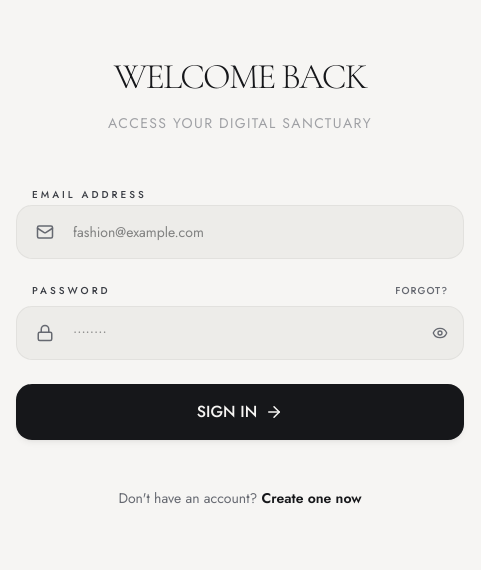
Test: login failures are explained › too many attempts says to wait
The image size is (481, 570).
Type "nobody@example.com" into the field with placeholder "fashion@example.com". click: (240, 232)
box: [16, 204, 464, 258]
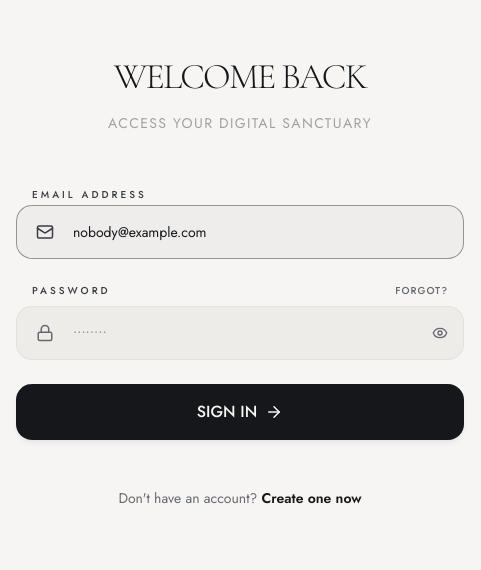
Type "wrong-password" into the password field with placeholder "••••••••". click: (240, 332)
box: [16, 306, 464, 360]
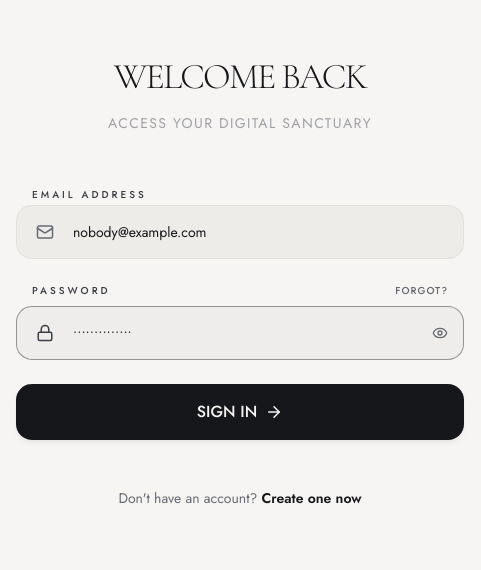
Click the button "SIGN IN". click: (240, 412)
box: [16, 384, 464, 440]
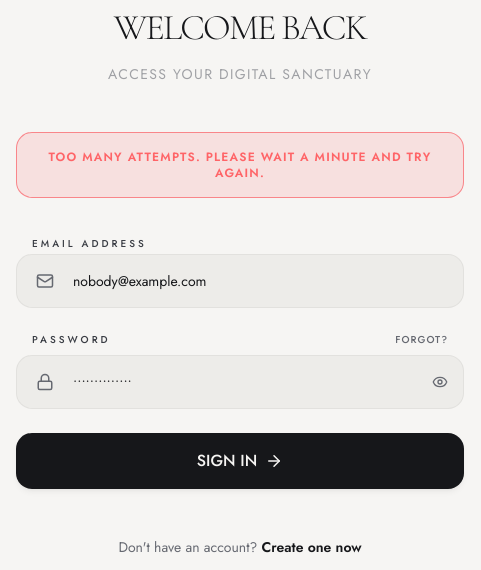
Check: the message shows "Too many attempts", box [48, 148, 432, 182]
